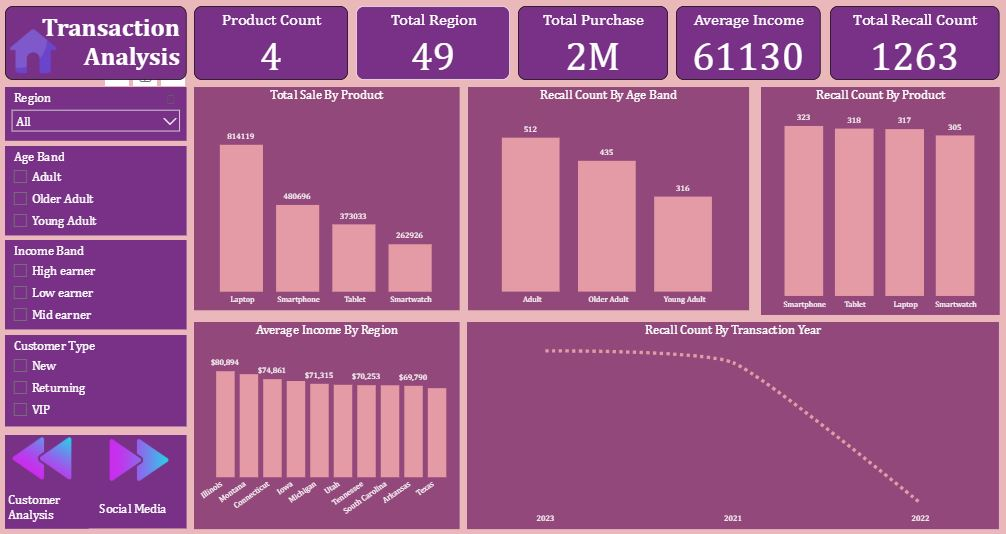

Layout of this report page (visuals, bound fields, positions):
{"tool":"powerbi","page":{"name":"Transaction Analysis Dashboard","canvas":[1500,800],"ordinal":2},"visuals":[{"type":"card","title":"Product Count","fields":{"Values":["New Measures.Product Count"]},"box":[291.9,11.3,229,109.7],"z":0},{"type":"card","title":"Total Region","fields":{"Values":["New Measures.Total Region"]},"box":[532.3,11.3,229,109.7],"z":1000},{"type":"card","title":"Total Purchase","fields":{"Values":["New Measures.Total Sale"]},"box":[772.6,11.3,222.6,109.7],"z":2000},{"type":"card","title":"Average Income","fields":{"Values":["New Measures.Average Income"]},"box":[1008.1,11.3,214.5,109.7],"z":3000},{"type":"card","title":"Total Recall Count","fields":{"Values":["New Measures.Total Recall Count"]},"box":[1237.1,11.3,251.6,109.7],"z":4000},{"type":"slicer","fields":{"Values":["public customerdata.region"]},"box":[9.8,132.6,270.2,80],"z":5000},{"type":"textbox","box":[9.8,11.5,270.2,109.7],"z":6000},{"type":"slicer","fields":{"Values":["public customerdata.Age Band"]},"box":[9.8,219.4,270.2,132.6],"z":7000},{"type":"slicer","fields":{"Values":["public customerdata.Income Band"]},"box":[9.8,360.3,270.2,132.6],"z":8000},{"type":"columnChart","title":"Recall Count By Age Band","fields":{"Category":["public customerdata.Age Band"],"Y":["New Measures.Total Recall Count"]},"box":[698.4,132.3,417.7,332.3],"z":9000},{"type":"funnel","title":"Total Sale By Product","fields":{"Category":["public transactiondata.productpurchased"],"Y":["Sum(public transactiondata.purchaseamount)"]},"box":[291.5,132.6,394.7,332.4],"z":10000},{"type":"columnChart","title":"Recall Count By Product","fields":{"Category":["public transactiondata.productpurchased"],"Y":["New Measures.Total Recall Count"]},"box":[1133.9,132.3,354.8,338.7],"z":11000},{"type":"lineChart","title":"Recall Count By Transaction Year","fields":{"Category":["public transactiondata.transactionyear"],"Y":["CountNonNull(public transactiondata.productrecalled)"]},"box":[698.4,480.6,417.7,309.7],"z":12000},{"type":"slicer","fields":{"Values":["public customerdata.customertype"]},"box":[9.8,501.1,270.2,135.9],"z":13000},{"type":"columnChart","title":"Average Income By Region","fields":{"Category":["public customerdata.region"],"Y":["New Measures.Average Income"]},"box":[291.5,481.4,394.7,307.9],"z":14000},{"type":"image","box":[9.8,37.7,83.5,83.5],"z":15000},{"type":"textbox","box":[9.8,650.1,270.2,139.2],"z":16000},{"type":"textbox","box":[9.8,730.3,124.5,59],"z":17000},{"type":"textbox","box":[145.7,743.4,127.7,32.8],"z":18000},{"type":"image","box":[9.8,623.9,109.7,119.5],"z":19000},{"type":"image","box":[153.9,630.5,109.7,113],"z":20000},{"type":"donutChart","title":"Product Recall Distribution","fields":{"Category":["public transactiondata.productrecalled"],"Y":["CountNonNull(public transactiondata.productrecalled)"]},"box":[1134,481,355,310],"z":20001}]}

Visuals, with their boxes in screenshot pixels (x1, y1, x2, y2), scaled from the page's 1500x800 canvas onto the 1006x534 screenshot:
"Product Count" card: (196, 8, 349, 81)
"Total Region" card: (357, 8, 511, 81)
"Total Purchase" card: (518, 8, 667, 81)
"Average Income" card: (676, 8, 820, 81)
"Total Recall Count" card: (830, 8, 998, 81)
slicer - public customerdata.region: (7, 89, 188, 142)
textbox: (7, 8, 188, 81)
slicer - public customerdata.Age Band: (7, 146, 188, 235)
slicer - public customerdata.Income Band: (7, 241, 188, 329)
"Recall Count By Age Band" columnChart: (468, 88, 749, 310)
"Total Sale By Product" funnel: (195, 89, 460, 310)
"Recall Count By Product" columnChart: (760, 88, 998, 314)
"Recall Count By Transaction Year" lineChart: (468, 321, 749, 528)
slicer - public customerdata.customertype: (7, 334, 188, 425)
"Average Income By Region" columnChart: (195, 321, 460, 527)
image: (7, 25, 63, 81)
textbox: (7, 434, 188, 527)
textbox: (7, 487, 90, 527)
textbox: (98, 496, 183, 518)
image: (7, 416, 80, 496)
image: (103, 421, 177, 496)
"Product Recall Distribution" donutChart: (761, 321, 999, 528)
